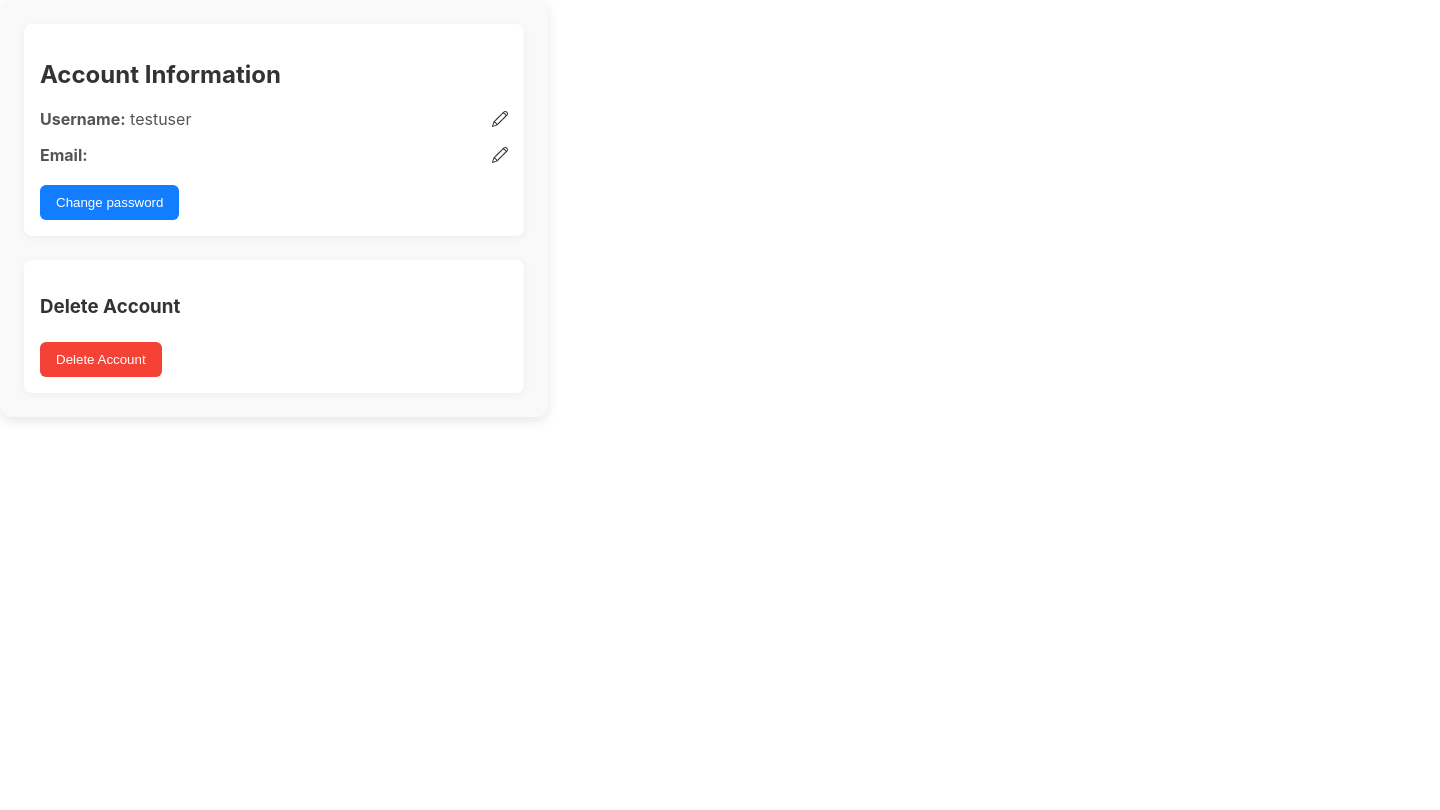
AccountSettings component › opens email popup when pencil clicked
The image size is (1440, 810).
Click the icon with test id "update-email": (500, 155) x1=492 y1=147 x2=508 y2=163
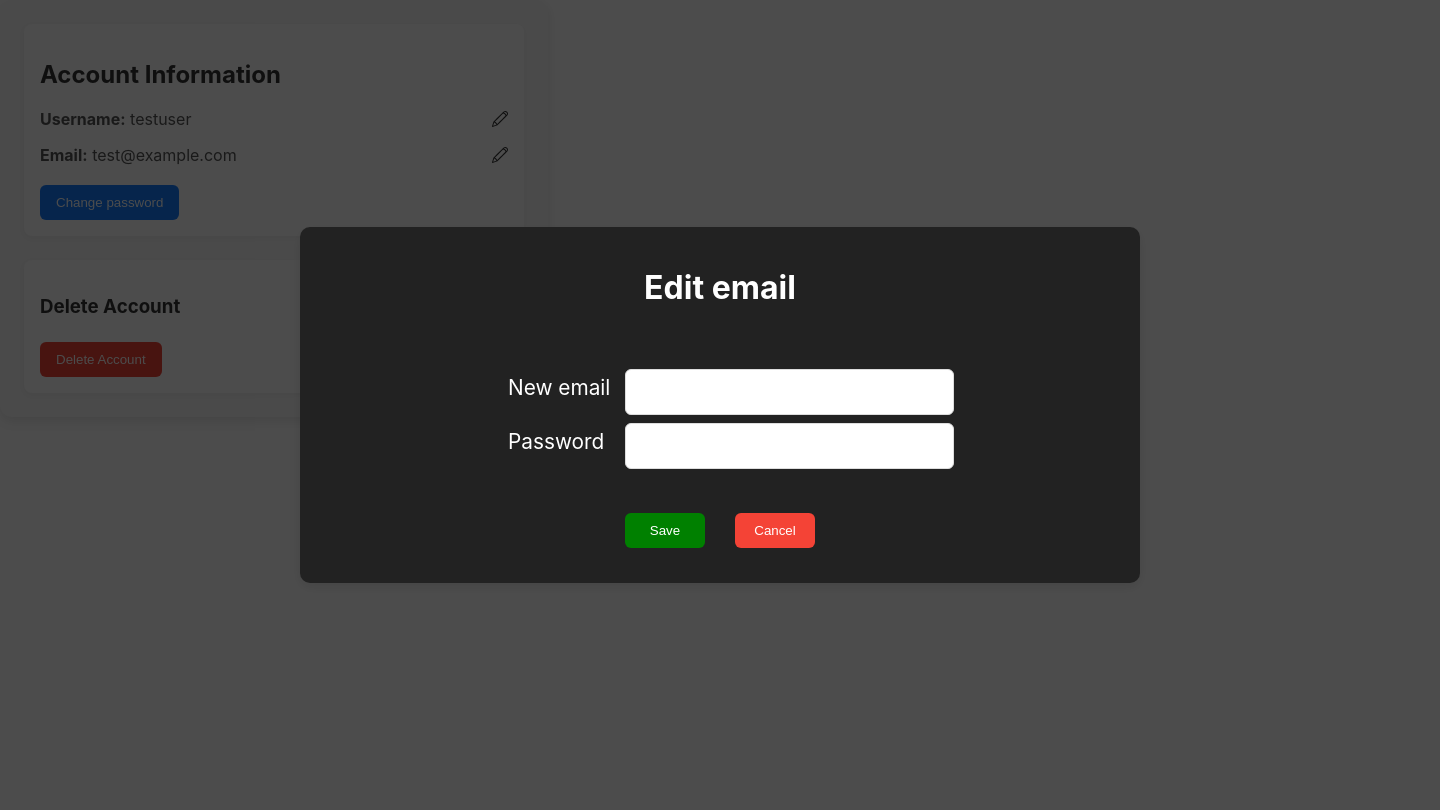
Now the heading "Edit email" is shown, box x1=644 y1=268 x2=796 y2=307
